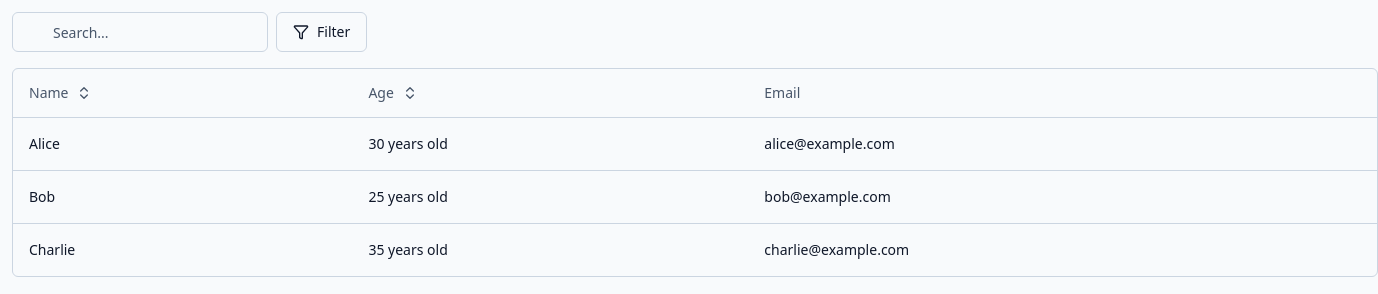
it: Table Components › DataTable › performs local sorting when not manual
Click the text "Name": (49, 93) x1=29 y1=83 x2=68 y2=103
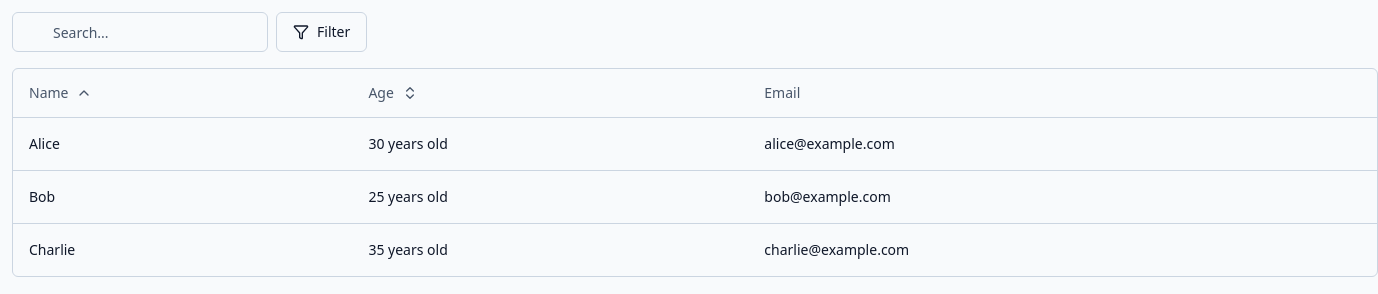
Expected: the row "Alice 30 years old alice@example.com" is shown, x1=13 y1=117 x2=1377 y2=170
Click the text "Name": (49, 93) x1=29 y1=83 x2=68 y2=103
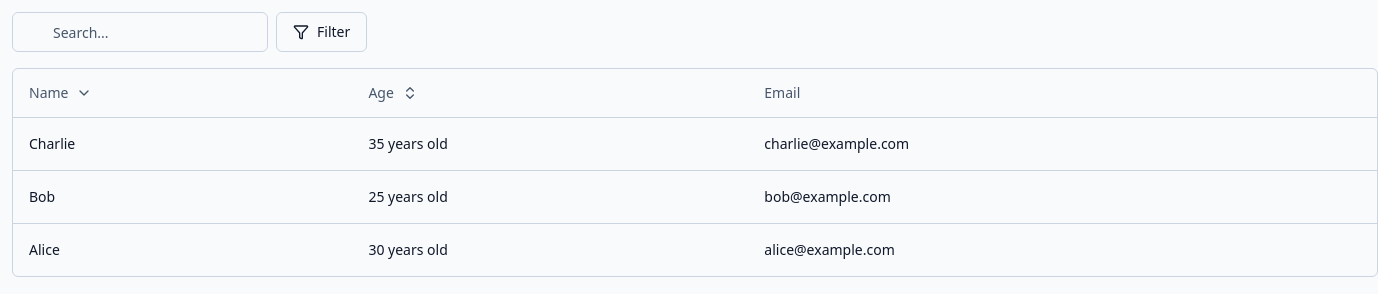
Expected: the row "Charlie 35 years old charlie@example.com" is shown, x1=13 y1=117 x2=1377 y2=170
